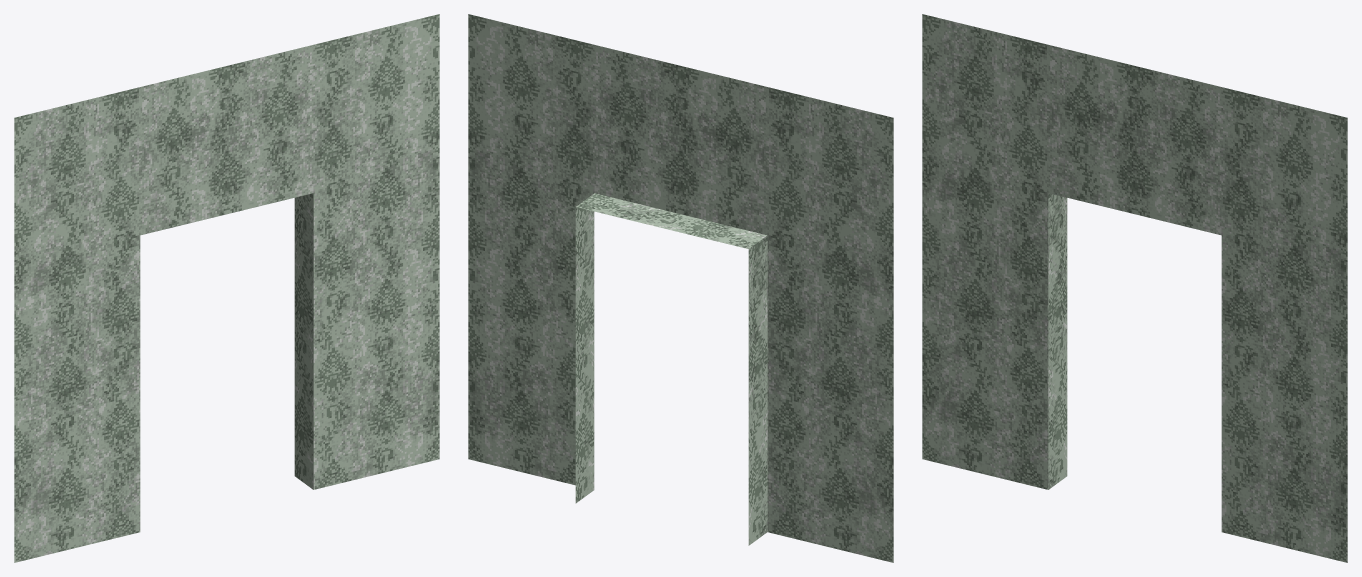
File: Modular_Surface_05.glb
3 views of the same model, side by side, from view 1: azimuth 30°, elevation 25°; view 2: azimuth 150°, elevation 25°; view 3: azimuth 330°, elevation 25° (orthographic).
Parts seen in each view (by area): view 1: Modular_Surface_05; view 2: Modular_Surface_05; view 3: Modular_Surface_05.
Part boxes in pixels (x1,y1,x2,y2): Modular_Surface_05: (14,14,439,562); Modular_Surface_05: (468,14,893,562); Modular_Surface_05: (922,14,1347,562).
Size of the model in its own units: 3 by 3 by 0.23.
Materials: 1 (1 with a texture image).
